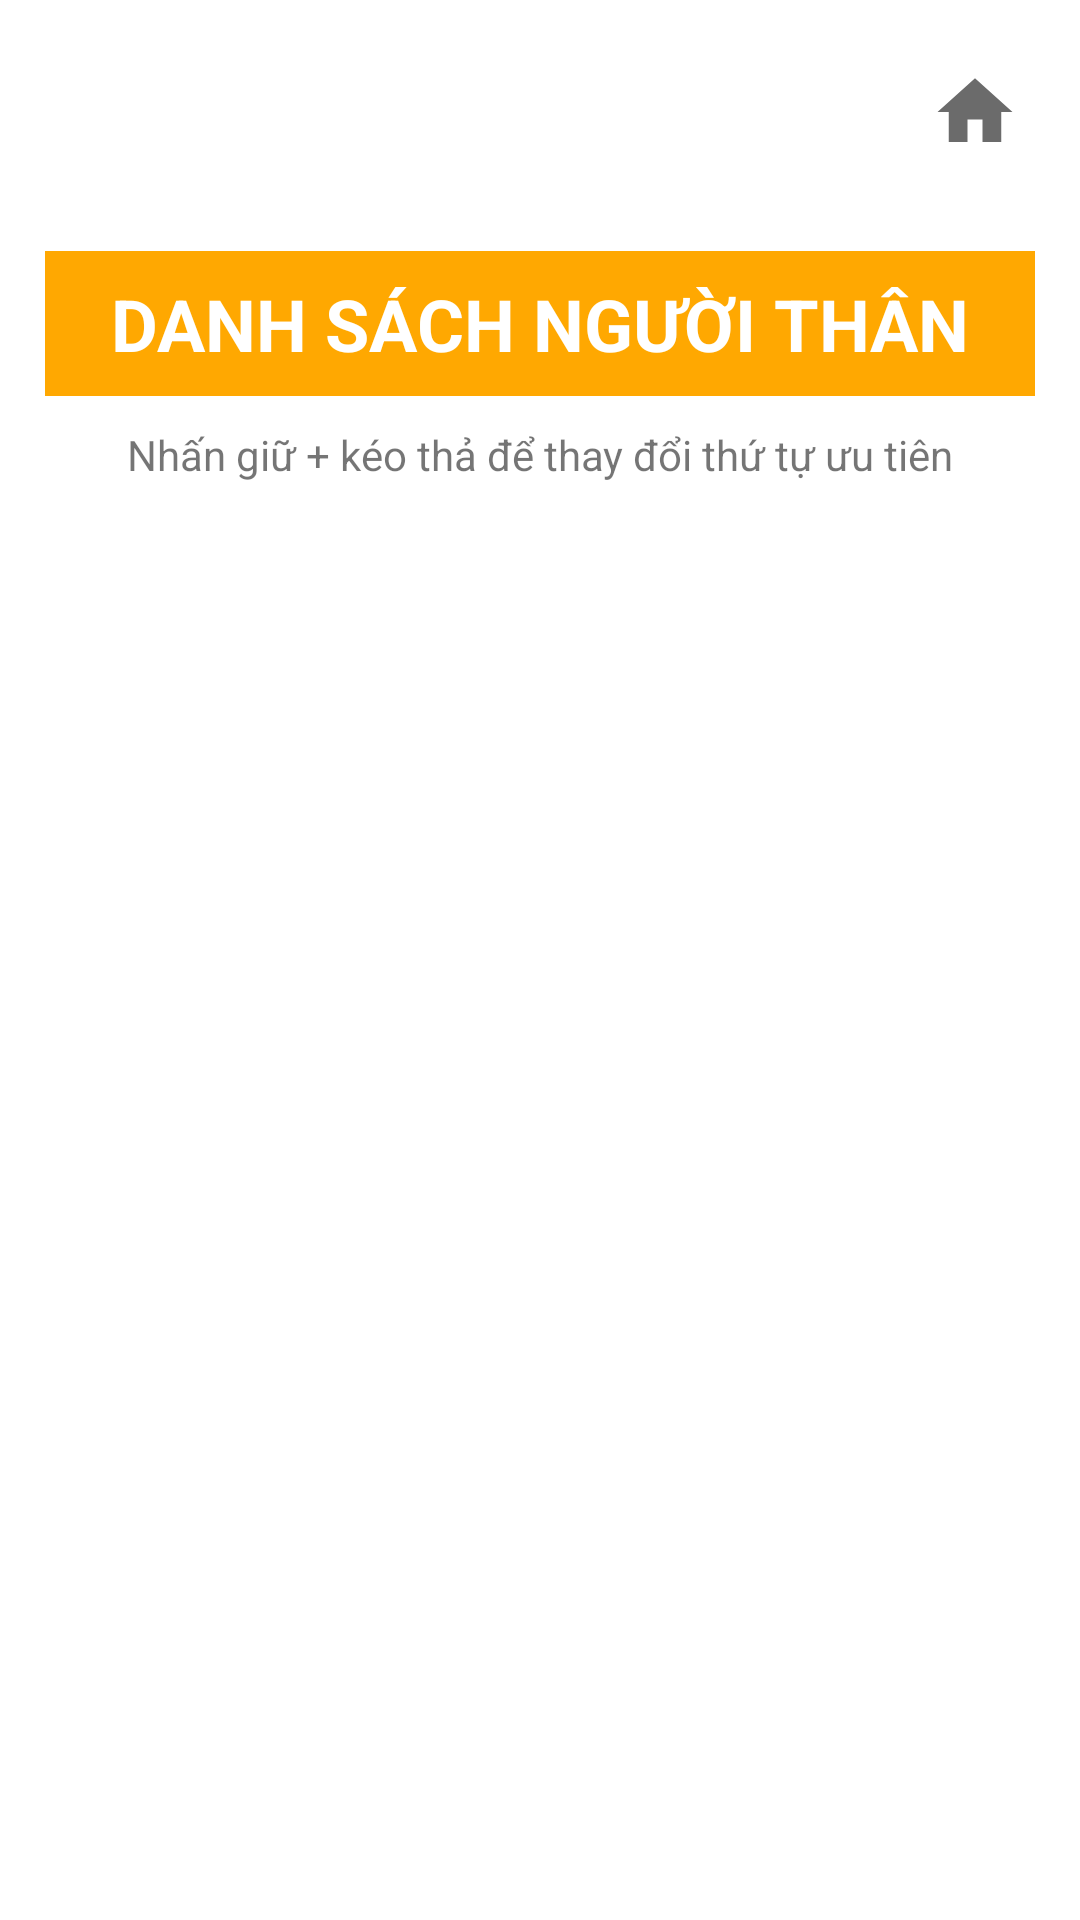

Named icons in this screenshot (1080 x 1920) and their centers, (x=x, y=y):
home: (x=975, y=110)
